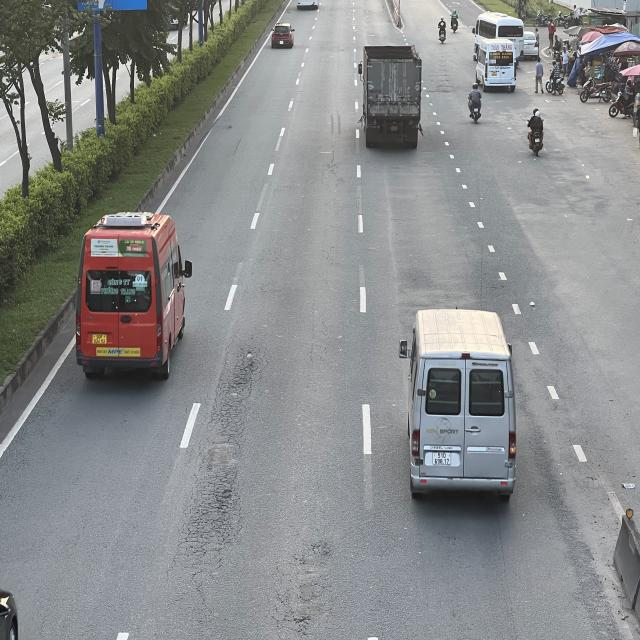car: (269, 21, 295, 49)
coach: (78, 212, 192, 376)
truck: (358, 44, 421, 152)
van: (401, 309, 516, 501), (474, 41, 516, 91)
